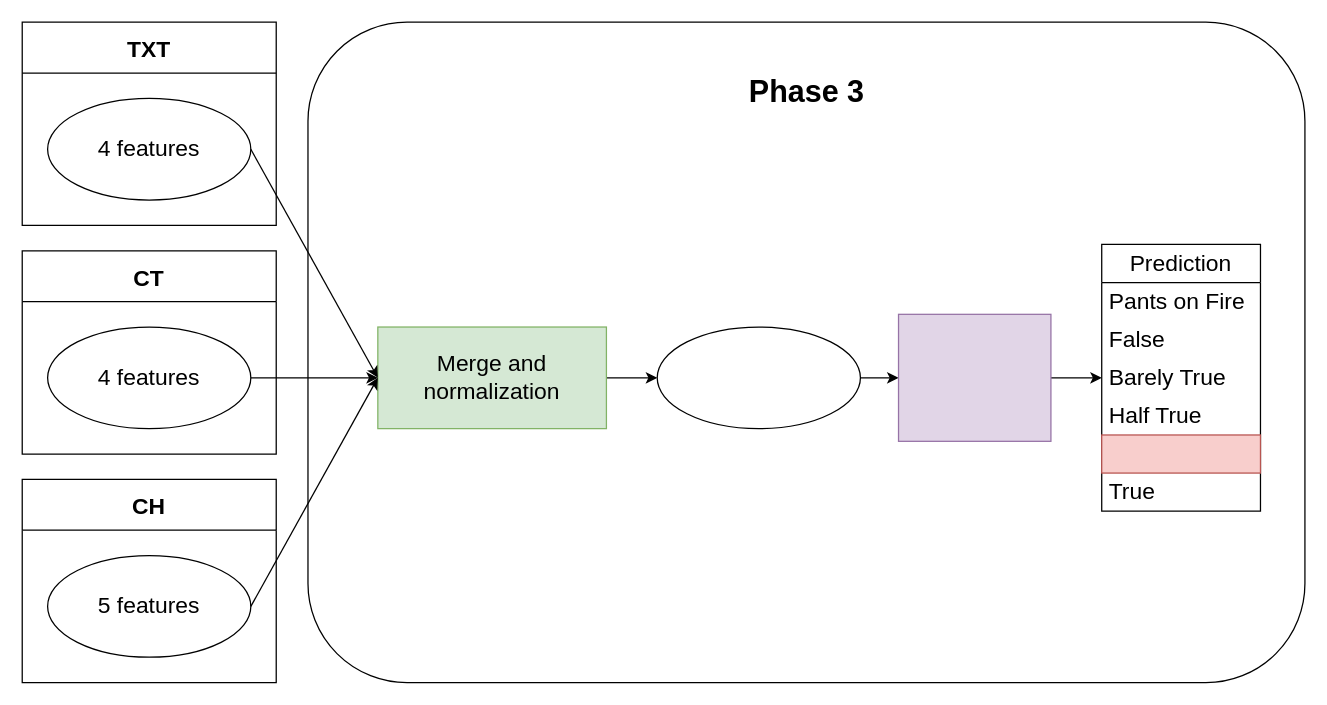
This 1327x705 diagram has some shape labels left out. The centre of each missing label's shape, as x and y in pixels:
13 features: [758,377]
Mostly True: [1180,453]
Multi-class Classifier: [974,377]
